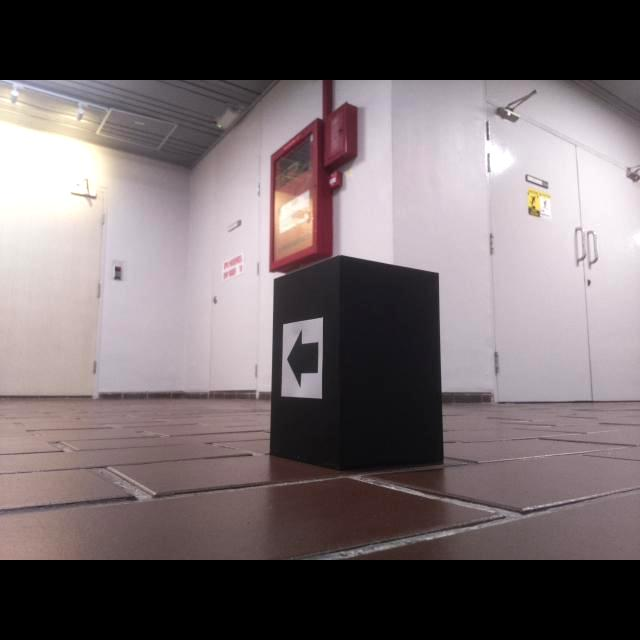LEFT: (285, 327, 319, 390)
